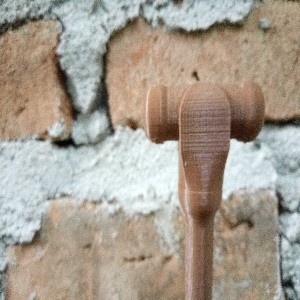palu: (145, 79, 265, 300)
